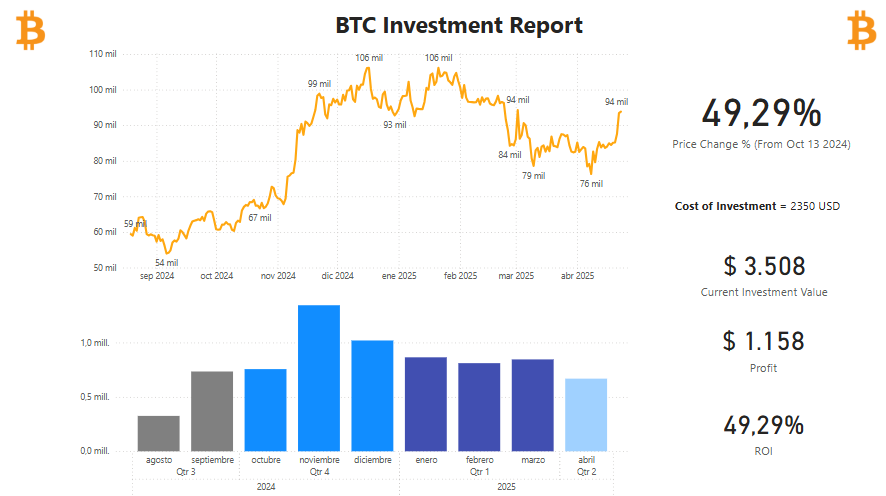

This screenshot's page, from the dashboard's own definition file:
{"tool":"powerbi","page":{"name":"BTC Chart","canvas":[1280,720],"ordinal":1},"visuals":[{"type":"lineChart","fields":{"Category":["Worksheet (2).date"],"Y":["Sum(Worksheet (2).close)"]},"box":[134.5,78.2,779.4,343.1],"z":0},{"type":"columnChart","fields":{"Category":["CCXT.date.Variación.Jerarquía de fechas.Año","CCXT.date.Variación.Jerarquía de fechas.Trimestre","CCXT.date.Variación.Jerarquía de fechas.Mes"],"Y":["Sum(Worksheet (2).volume)"]},"box":[122.1,421.3,779.4,299.1],"z":1000},{"type":"image","box":[0,0,116.6,118],"z":2000},{"type":"image","box":[1163.6,0,116.6,118],"z":3000},{"type":"textbox","box":[461,24.5,395,53.8],"z":4000},{"type":"card","fields":{"Values":["CCXT.Price Change %"]},"box":[947.7,118.6,270.2,119.8],"z":5000},{"type":"textbox","box":[956.3,271.5,259.2,61.1],"z":6000},{"type":"card","fields":{"Values":["CCXT.Profit"]},"box":[996.6,448.8,177.3,108.8],"z":7000},{"type":"card","fields":{"Values":["CCXT.Current Investment Value"]},"box":[983.2,344.8,204.2,103.9],"z":8000},{"type":"card","fields":{"Values":["CCXT.ROI"]},"box":[970.2,570.8,230.5,97.4],"z":9000}]}

Visuals, with their boxes in screenshot pixels (x1, y1, x2, y2), scaled from the page's 1280x720 canvas onto the 886x496 screenshot:
lineChart - Worksheet (2).date x Sum(Worksheet (2).close): rect(93, 54, 633, 290)
columnChart - CCXT.date.Variación.Jerarquía de fechas.Año x CCXT.date.Variación.Jerarquía de fechas.Trimestre: rect(85, 290, 624, 495)
image: rect(0, 0, 81, 81)
image: rect(805, 0, 885, 81)
textbox: rect(319, 17, 593, 54)
card - CCXT.Price Change %: rect(656, 82, 843, 164)
textbox: rect(662, 187, 841, 229)
card - CCXT.Profit: rect(690, 309, 813, 384)
card - CCXT.Current Investment Value: rect(681, 238, 822, 309)
card - CCXT.ROI: rect(672, 393, 831, 460)
